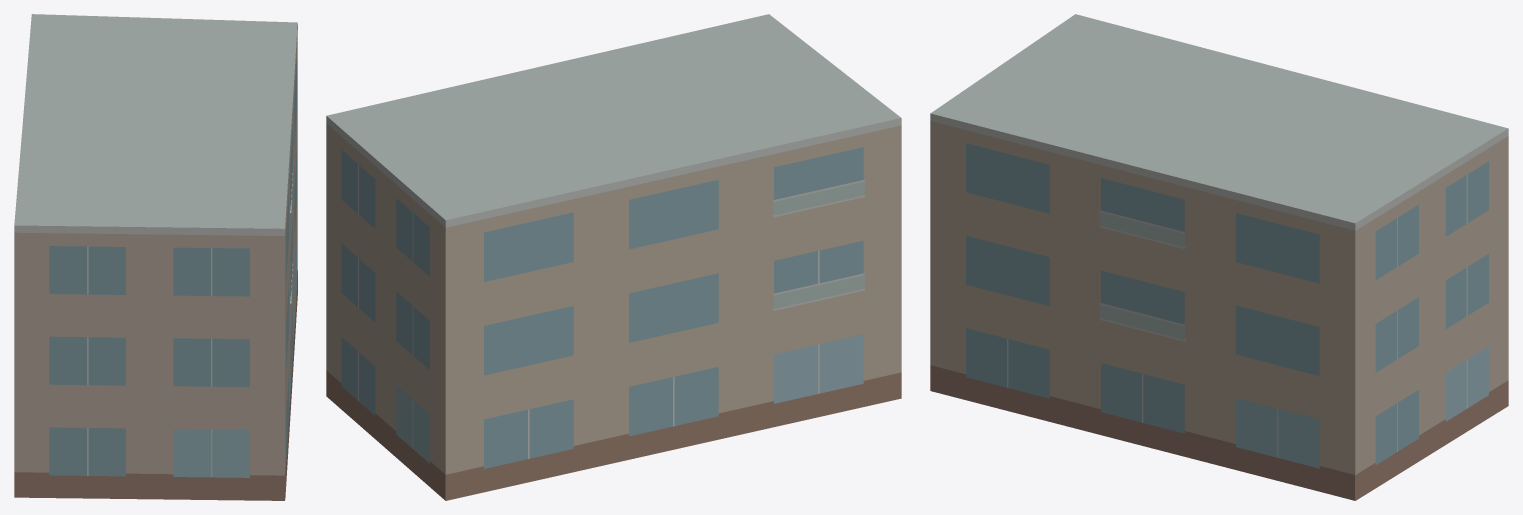
The model's file is survey-upis-32922044.glb.
3 views of the same model, side by side, from view 1: azimuth 30°, elevation 25°; view 2: azimuth 150°, elevation 25°; view 3: azimuth 270°, elevation 25° (orthographic). The views are drawn at different scales.
Visible parts, largest first — view 1: survey-upis-32922044.tmp; view 2: survey-upis-32922044.tmp; view 3: survey-upis-32922044.tmp.
Part boxes in pixels (x1,y1,x2,y2): survey-upis-32922044.tmp: (14,14,297,500); survey-upis-32922044.tmp: (326,14,901,500); survey-upis-32922044.tmp: (930,14,1508,500).
Size of the model in its own units: 14.82 by 9.15 by 17.29.
